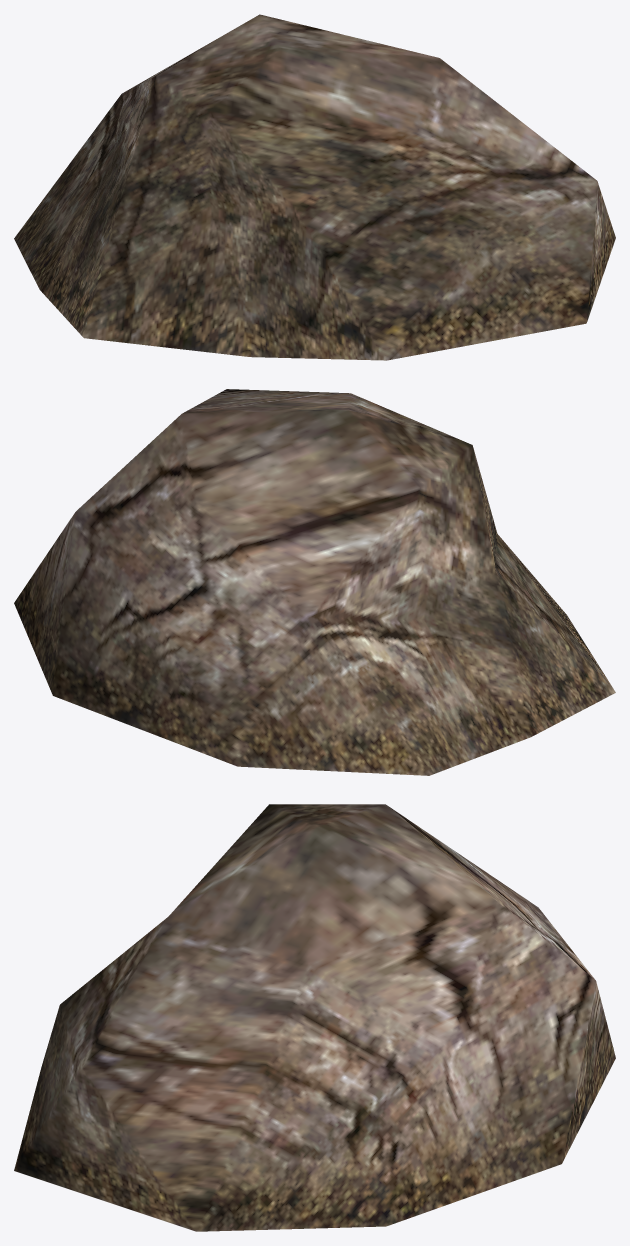
Rendered from hr_ps_stone2.glb.
3 views of the same model, one above another, from view 1: azimuth 30°, elevation 25°; view 2: azimuth 150°, elevation 25°; view 3: azimuth 270°, elevation 25° (orthographic). The views are drawn at different scales.
Visible parts, largest first — view 1: hr_ps_stone2; view 2: hr_ps_stone2; view 3: hr_ps_stone2.
Part boxes in pixels (x1,y1,x2,y2): hr_ps_stone2: [14, 14, 615, 360]; hr_ps_stone2: [14, 389, 615, 775]; hr_ps_stone2: [14, 804, 615, 1231].
Size of the model in its own units: 1.57 by 0.6529 by 1.44.
Materials: 1 (1 with a texture image).
